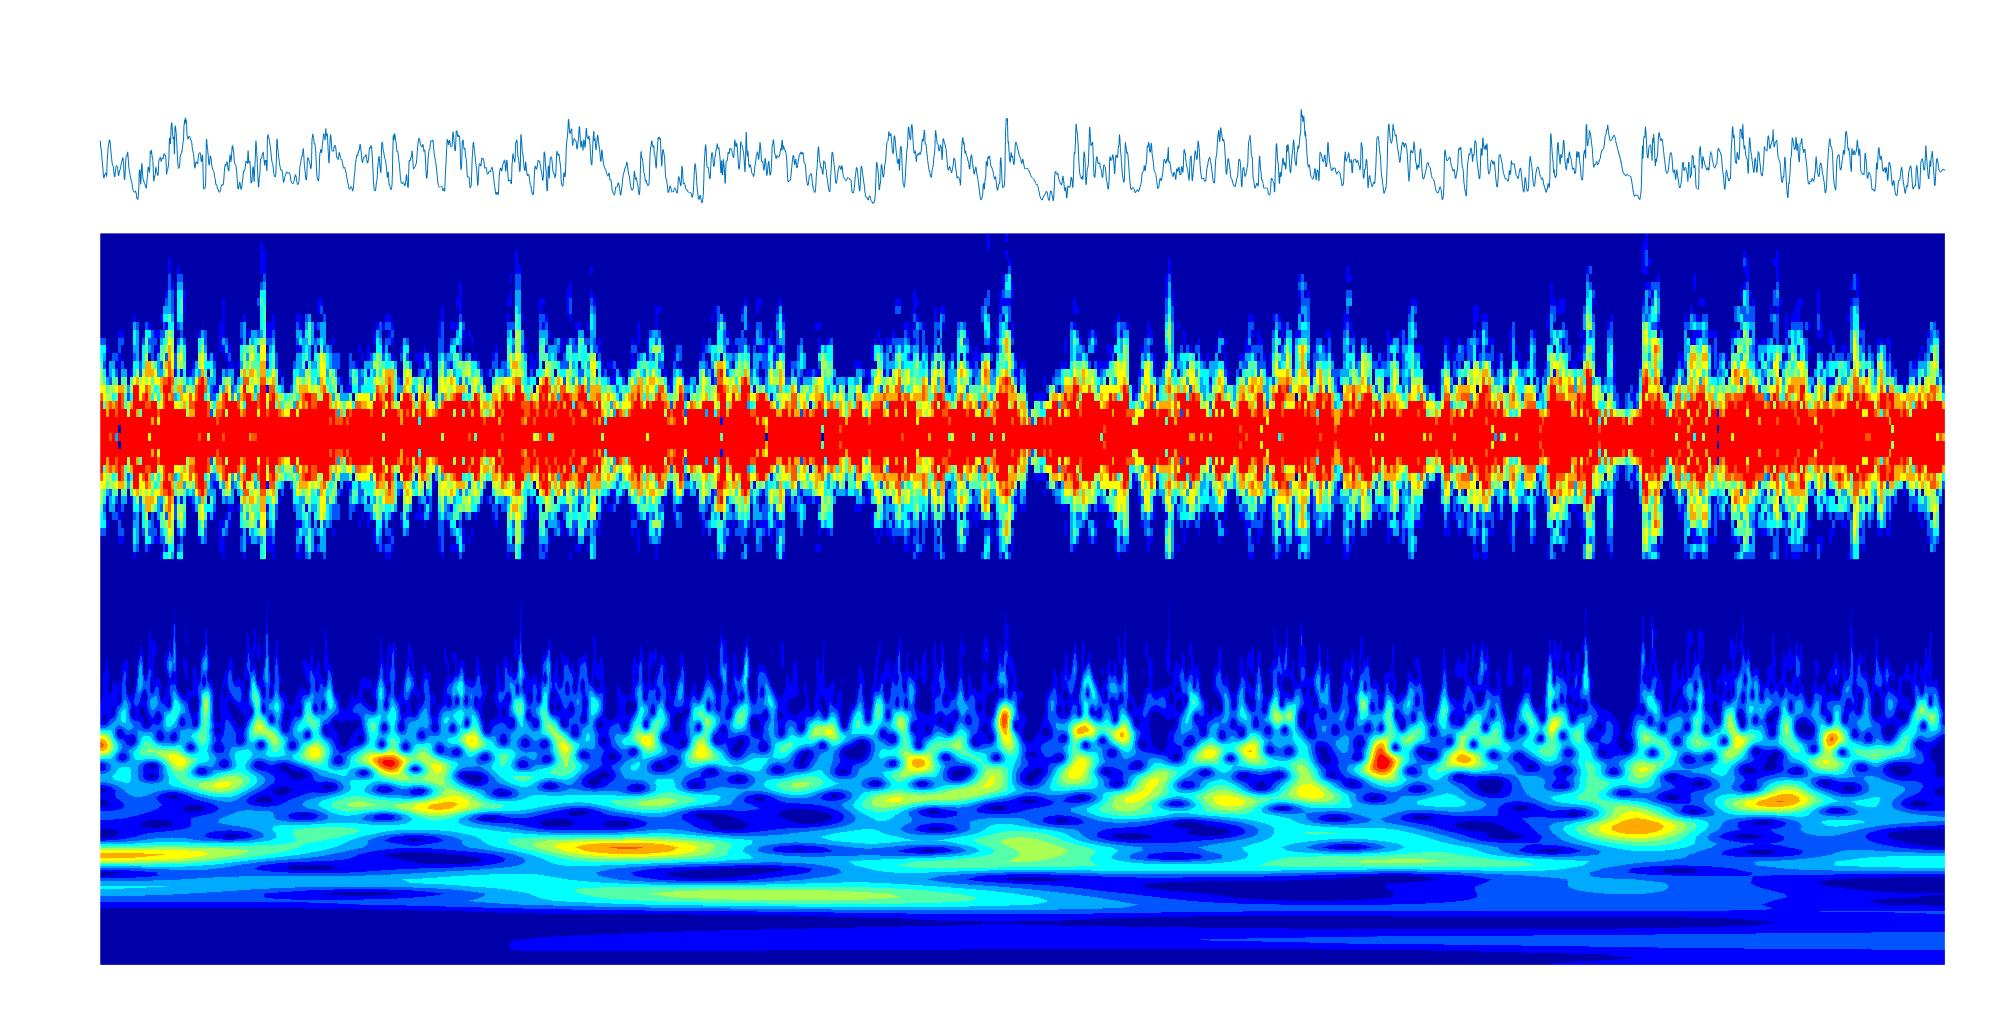TURBULENT: (376, 235, 1017, 965), (1062, 235, 1593, 960), (1642, 237, 1942, 963), (102, 233, 330, 965)
